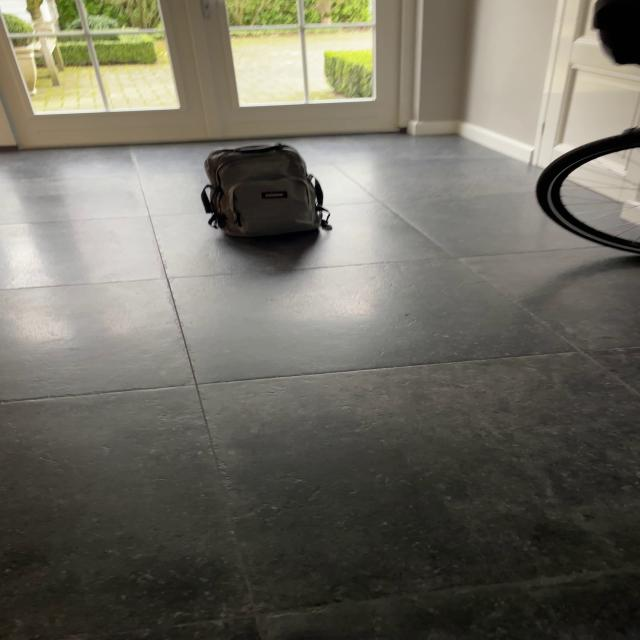backpack: (194, 140, 330, 242)
